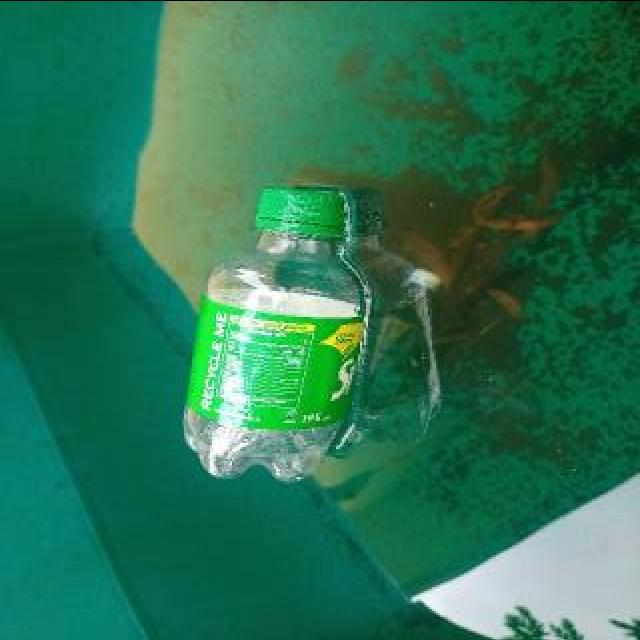Bottle: (173, 172, 372, 487)
